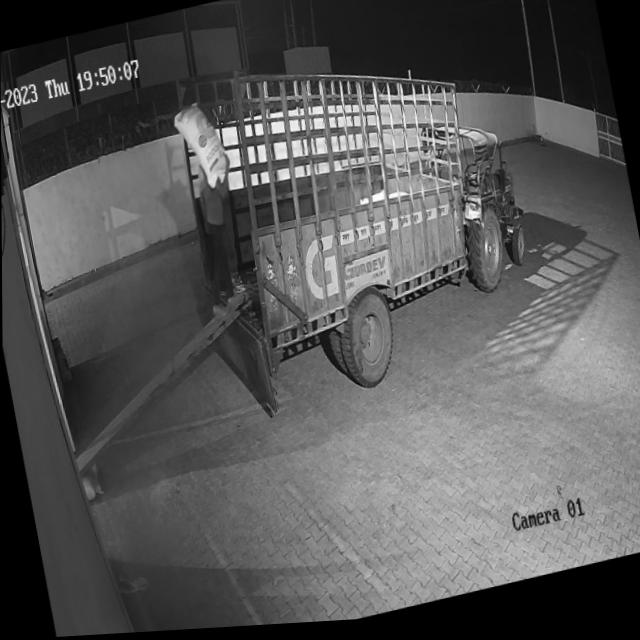sack: (171, 97, 231, 196)
